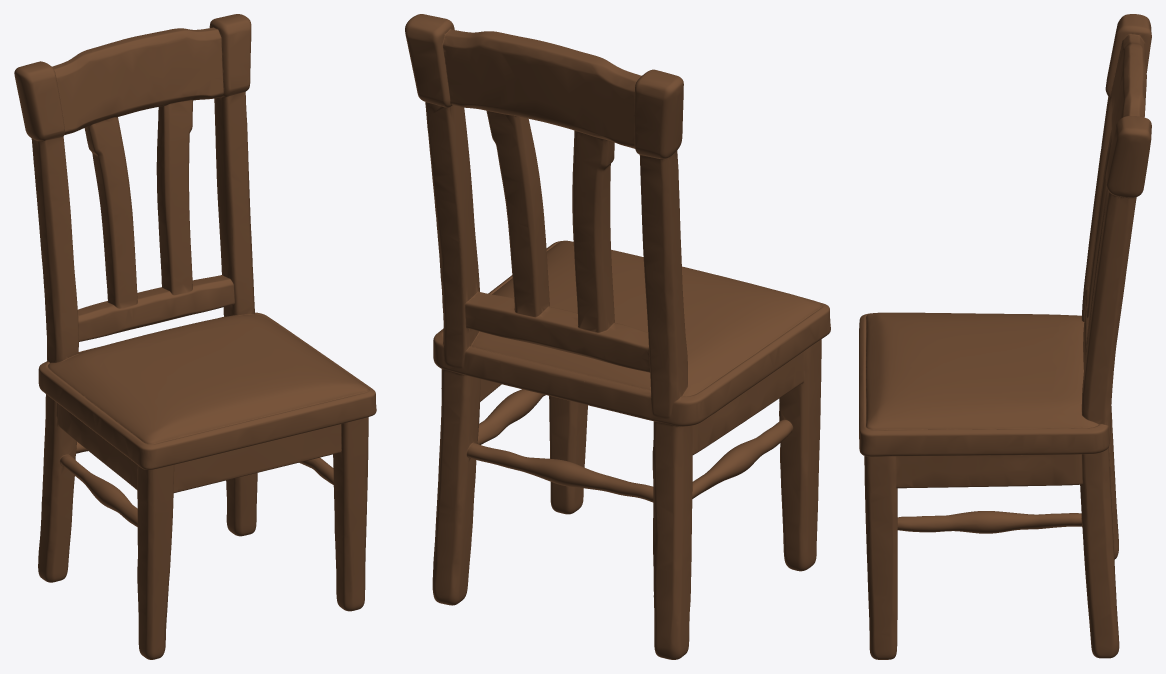
Rendered from Chair_Parts.glb.
3 renders of one model, left to right at view 1: azimuth 30°, elevation 25°; view 2: azimuth 150°, elevation 25°; view 3: azimuth 270°, elevation 25°, orthographic. The views are drawn at different scales.
Visible parts, largest first — view 1: Chair_Seat, Chair_TopRail, Chair_Slat_R, Chair_BackRail, Chair_BackPost_L, Chair_Apron, Chair_Leg_FL, Chair_Leg_FR, Chair_Slat_L, Chair_Leg_BL, Chair_BackPost_R, Chair_Stretchers (+1 smaller); view 2: Chair_Seat, Chair_TopRail, Chair_Leg_BL, Chair_Slat_R, Chair_Leg_BR, Chair_BackPost_L, Chair_BackRail, Chair_Leg_FL, Chair_Stretchers, Chair_Slat_L, Chair_BackPost_R, Chair_Apron (+1 smaller); view 3: Chair_Seat, Chair_Leg_BR, Chair_Leg_FR, Chair_BackPost_R, Chair_TopRail, Chair_Apron, Chair_Stretchers, Chair_BackRail, Chair_Slat_L, Chair_BackPost_L, Chair_Leg_BL.
Boxes of the visible parts, bbox=[...] form: Chair_Seat: bbox=[48, 306, 376, 469]; Chair_TopRail: bbox=[14, 14, 251, 137]; Chair_Slat_R: bbox=[140, 91, 234, 282]; Chair_BackRail: bbox=[77, 260, 249, 358]; Chair_BackPost_L: bbox=[25, 128, 78, 354]; Chair_Apron: bbox=[60, 405, 341, 492]; Chair_Leg_FL: bbox=[130, 460, 174, 659]; Chair_Leg_FR: bbox=[326, 417, 368, 611]; Chair_Slat_L: bbox=[64, 109, 144, 306]; Chair_Leg_BL: bbox=[38, 348, 81, 582]; Chair_BackPost_R: bbox=[214, 86, 254, 311]; Chair_Stretchers: bbox=[62, 442, 333, 526]; Chair_Seat: bbox=[465, 240, 830, 420]; Chair_TopRail: bbox=[405, 14, 683, 152]; Chair_Leg_BL: bbox=[650, 375, 711, 659]; Chair_Slat_R: bbox=[449, 98, 549, 302]; Chair_Leg_BR: bbox=[432, 328, 482, 605]; Chair_BackPost_L: bbox=[635, 141, 687, 384]; Chair_BackRail: bbox=[462, 276, 650, 378]; Chair_Leg_FL: bbox=[774, 339, 821, 571]; Chair_Stretchers: bbox=[467, 389, 786, 502]; Chair_Slat_L: bbox=[543, 120, 648, 330]; Chair_BackPost_R: bbox=[417, 92, 470, 334]; Chair_Apron: bbox=[468, 358, 794, 452]; Chair_Seat: bbox=[859, 312, 1084, 456]; Chair_Leg_BR: bbox=[1074, 401, 1119, 658]; Chair_Leg_FR: bbox=[864, 456, 911, 659]; Chair_BackPost_R: bbox=[1082, 189, 1143, 410]; Chair_TopRail: bbox=[1105, 14, 1151, 191]; Chair_Apron: bbox=[911, 454, 1074, 487]; Chair_Stretchers: bbox=[911, 459, 1110, 533]; Chair_BackRail: bbox=[1051, 273, 1090, 399]; Chair_Slat_L: bbox=[1086, 98, 1111, 304]; Chair_BackPost_L: bbox=[1082, 93, 1111, 317]; Chair_Leg_BL: bbox=[1074, 315, 1118, 559].
Bounding box in the file's own units: 0.4618 × 0.95 × 0.4689.
